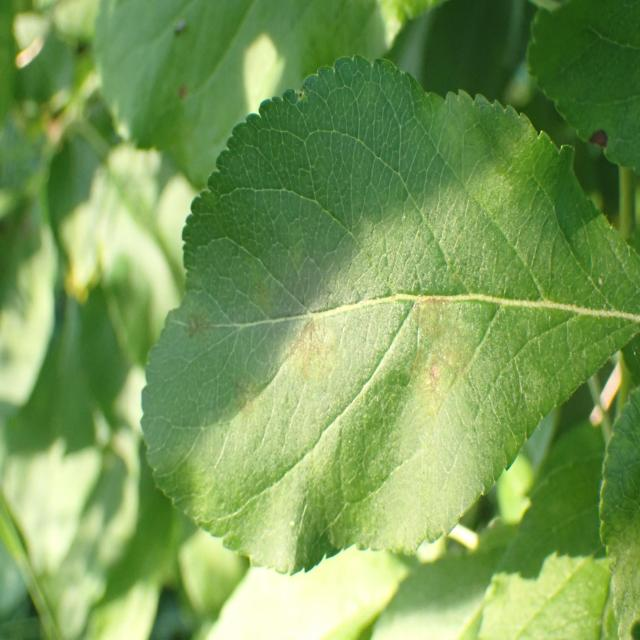scab: (133, 195, 578, 458)
